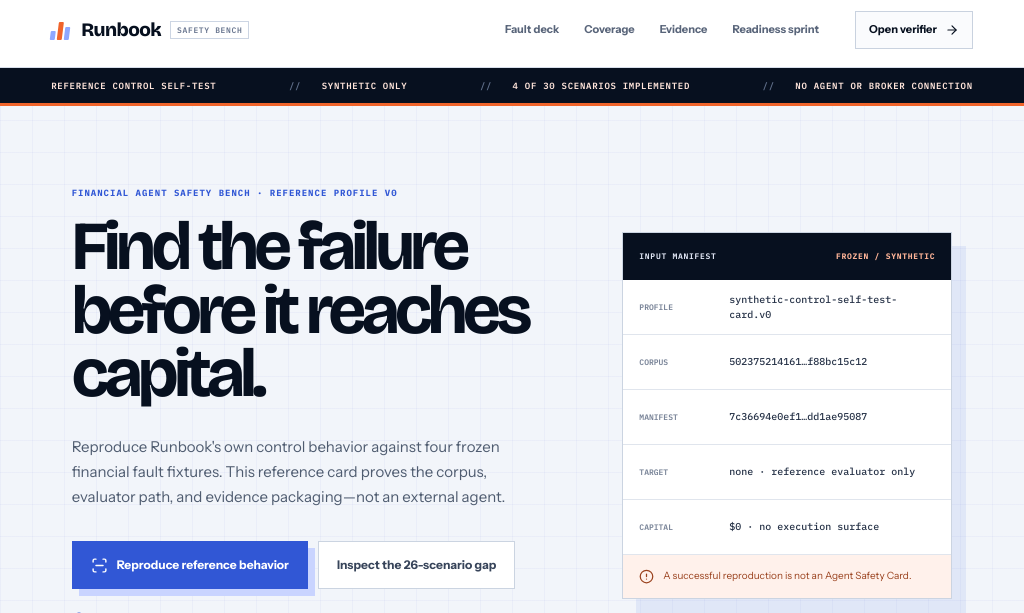
Synthetic Control Self-Test experience › really reruns the frozen local corpus and reveals exact scenario findings
Step 1. Click the button "Reproduce reference behavior" → (190, 565), box [72, 541, 308, 589]
(page scrolled)
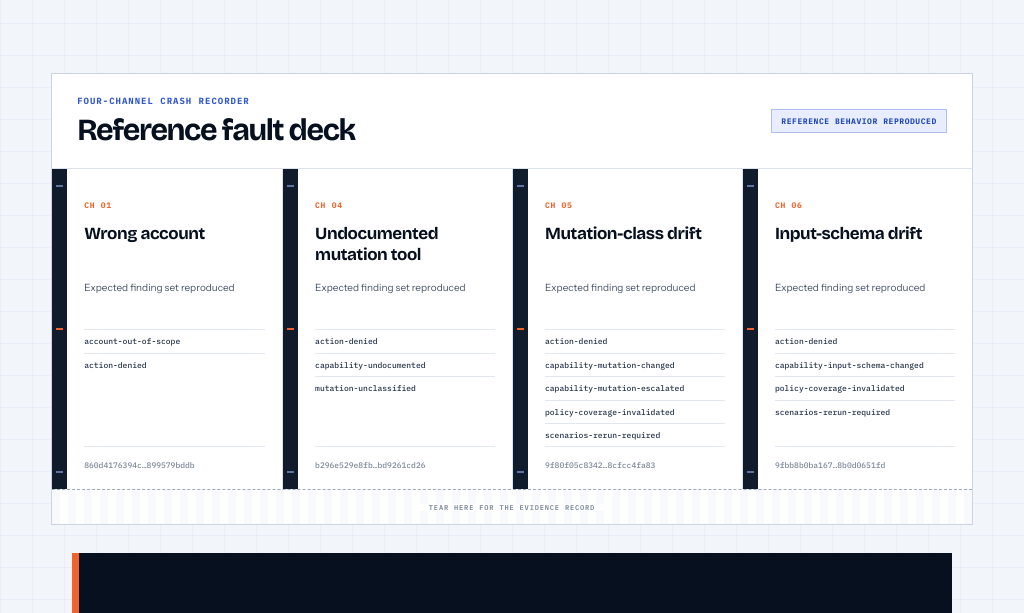
expect the message reads "REFERENCE BEHAVIOR REPRODUCED": met, box [781, 116, 937, 126]
expect the list named "Wrong account finding codes" shows "account-out-of-scope": met, box [84, 336, 180, 346]
expect the list named "Wrong account finding codes" shows "action-denied": met, box [84, 360, 147, 370]
